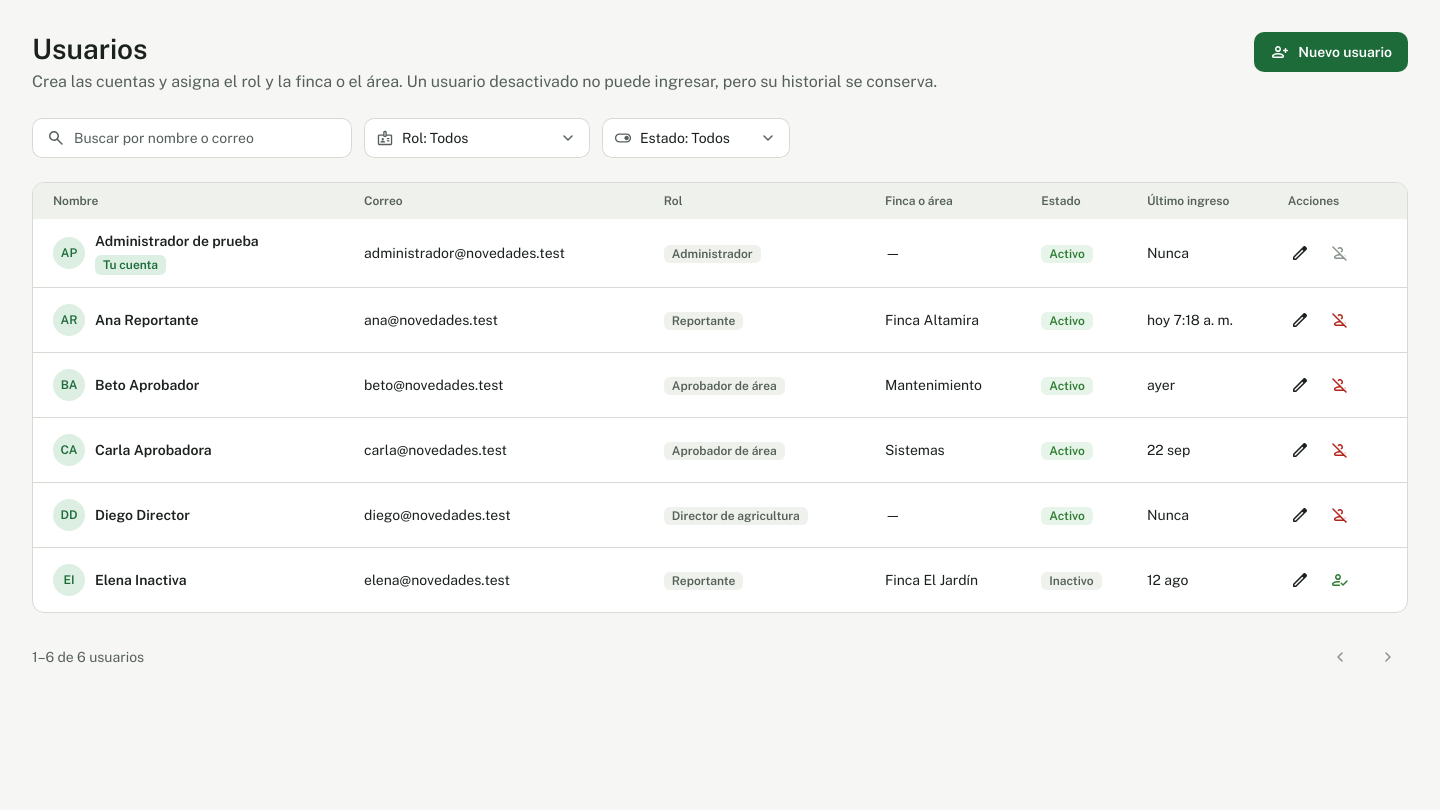
Test case: Pantalla 28 · Usuarios (RF-03 / CU-03 2) › RF-03: busca por nombre o por correo, sin distinguir mayúsculas ni tildes
Expected: the table is shown, [33,183,1407,612]
Step 1. Type "APROBAD" into the search field labelled "Buscar por nombre o correo" → (206, 138), box [74,128,338,148]
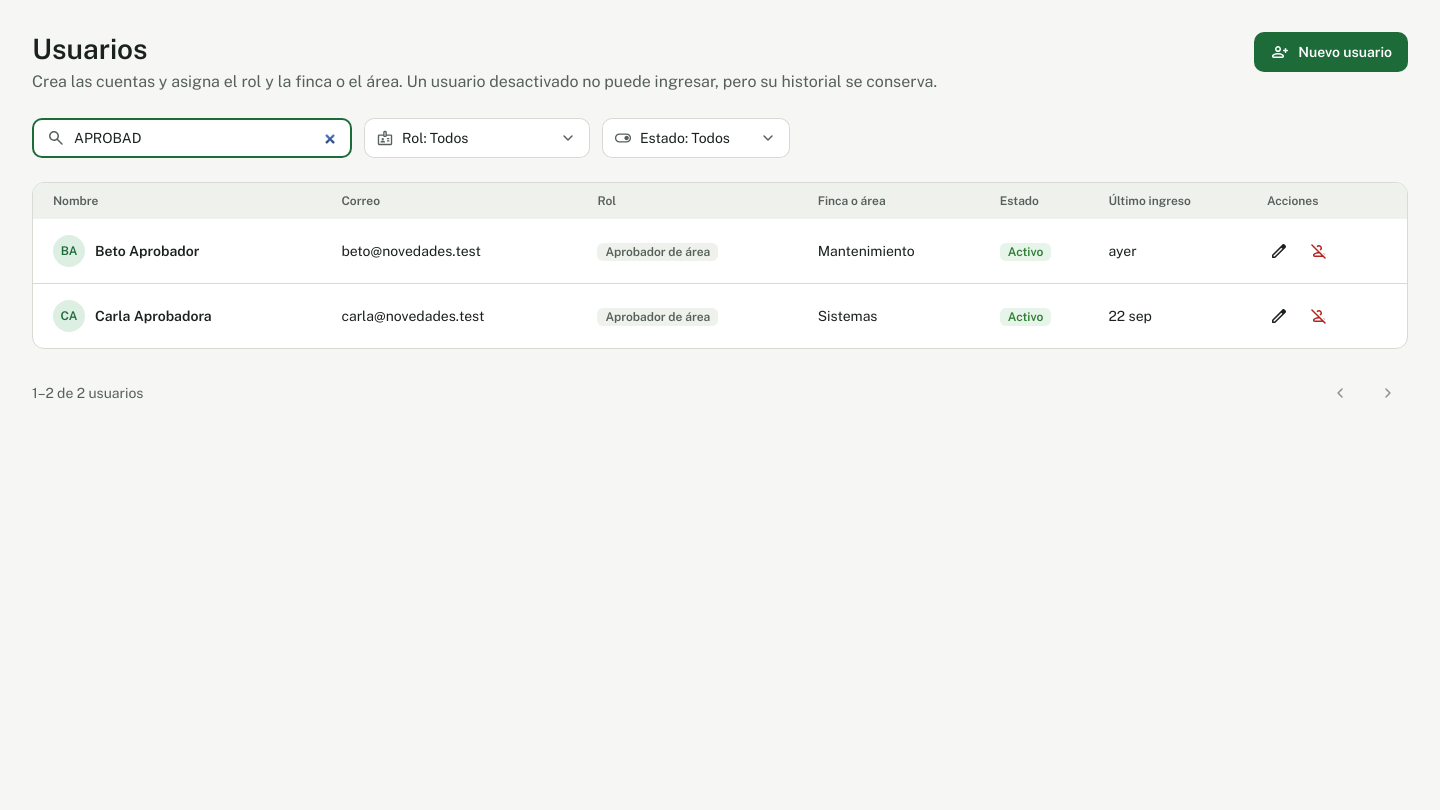
Step 2. Replace the text in the search field named "Buscar por nombre o correo" with "diego@" → (206, 138), box [74,128,338,148]
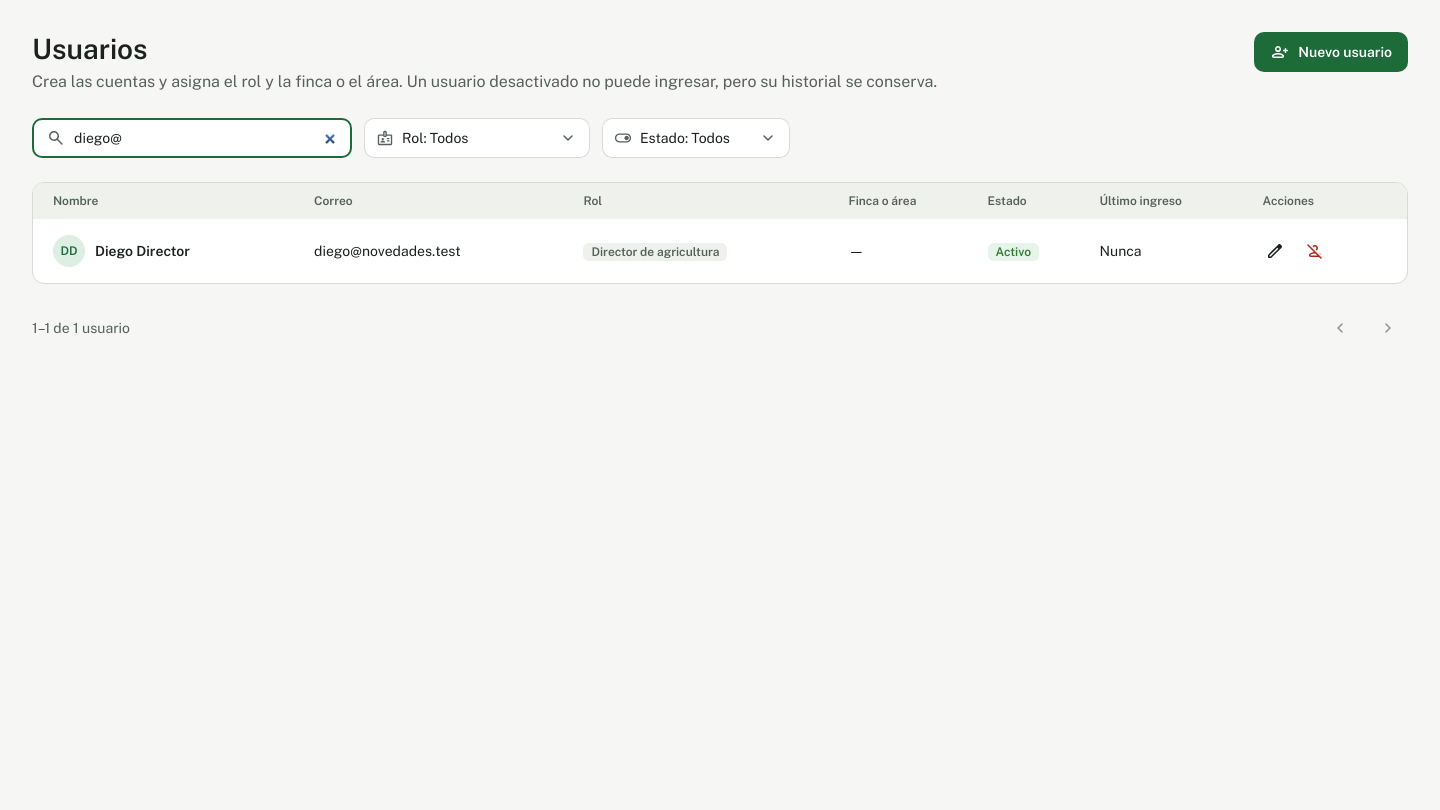
Now the text "1–1 de 1 usuario" is shown, box [32,318,130,338]
